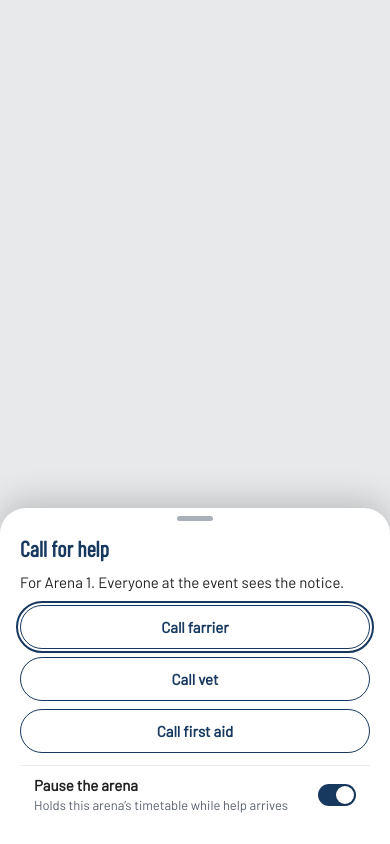
Test case: ArenaHelpSheet › can skip pausing and reports a failure
Click the switch: [337, 795] box [318,784,356,806]
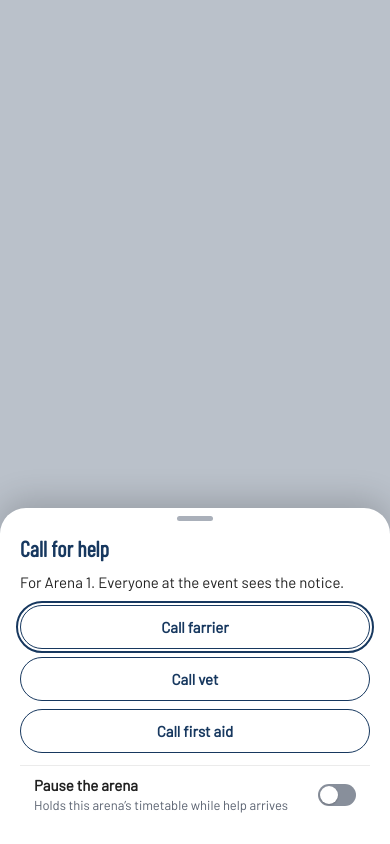
Click the button "Call first aid": [195, 731] box [20,709,370,753]
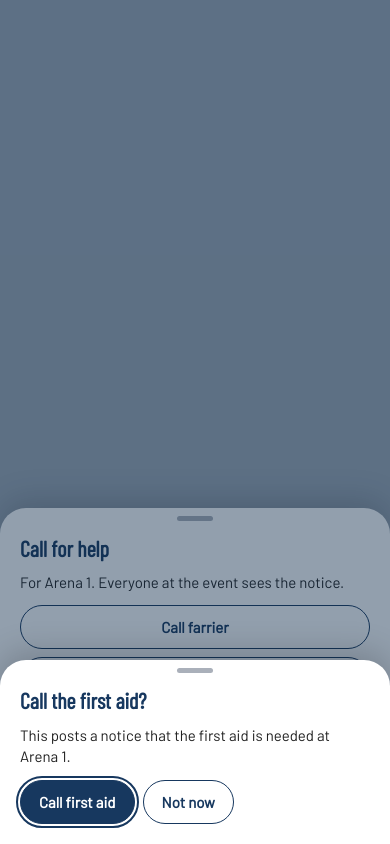
Click the button "Call first aid": [77, 802] box [20,780,134,824]
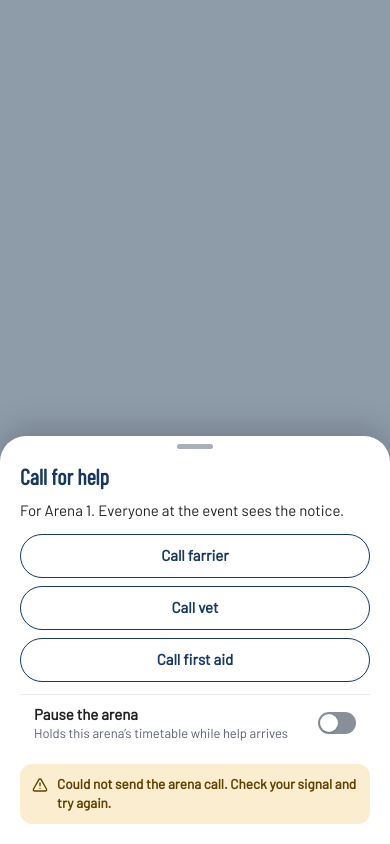
Check: the text "Could not send the arena call" is shown, box [57,775,356,811]
